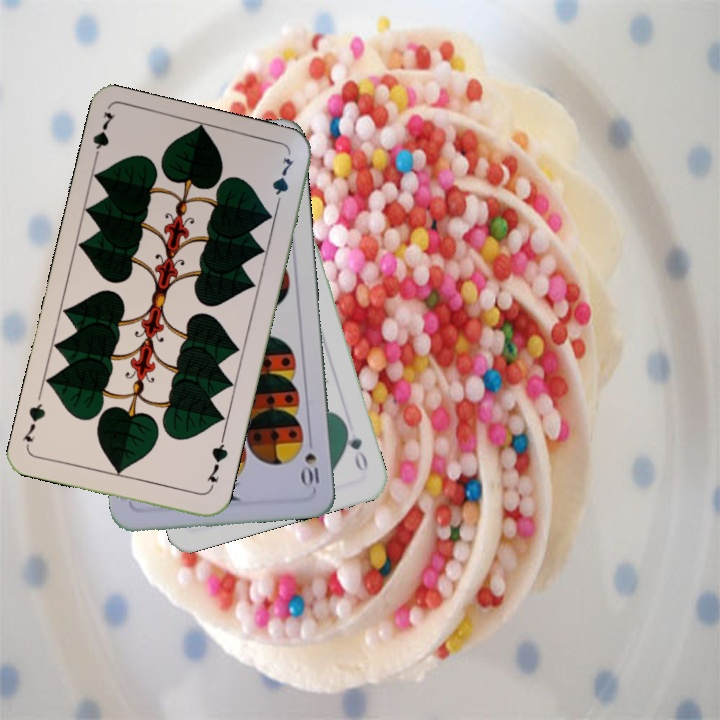G7: (88, 108, 118, 167), (202, 435, 231, 493)
GO: (340, 419, 371, 474)
S10: (299, 432, 323, 491)
